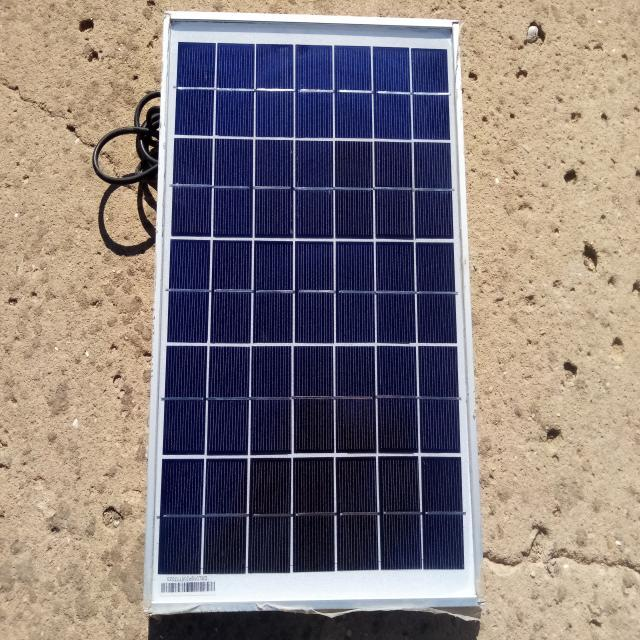no faulty: (143, 14, 480, 607)
